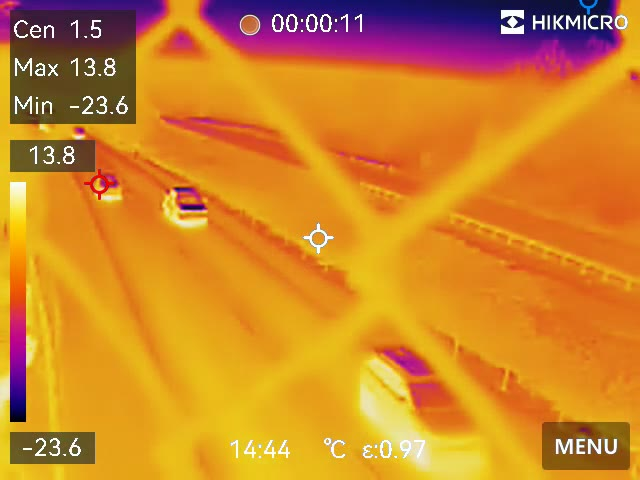largeCar: (360, 337, 489, 480)
lightTruck: (161, 184, 212, 226)
vehicle: (89, 170, 129, 202)
